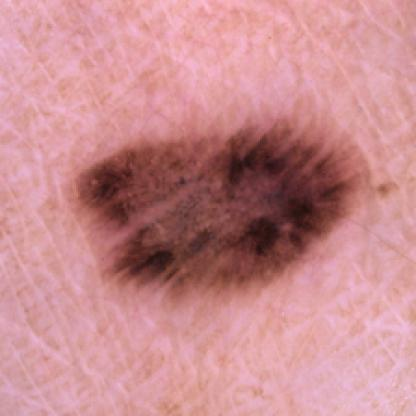benign: (58, 134, 386, 278)
